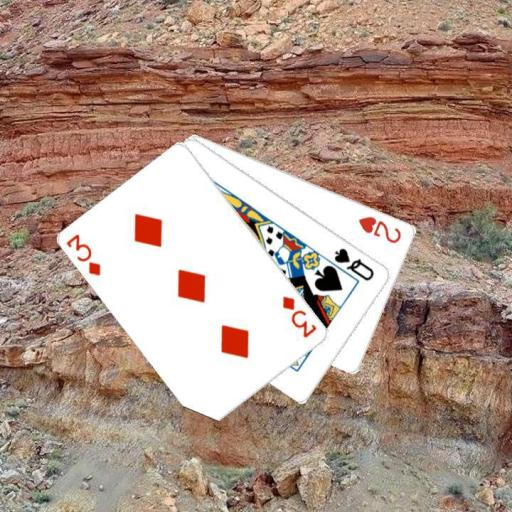2H: (356, 213, 403, 245)
3D: (280, 292, 320, 340), (63, 230, 103, 278)
QS: (332, 245, 377, 282)
